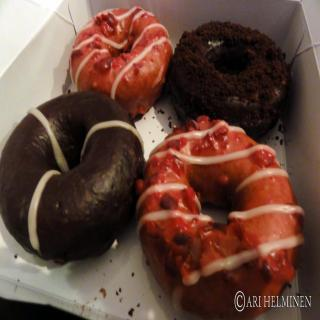Doughnut: (136, 115, 306, 320), (0, 87, 146, 265), (168, 19, 292, 141), (70, 5, 174, 118)
